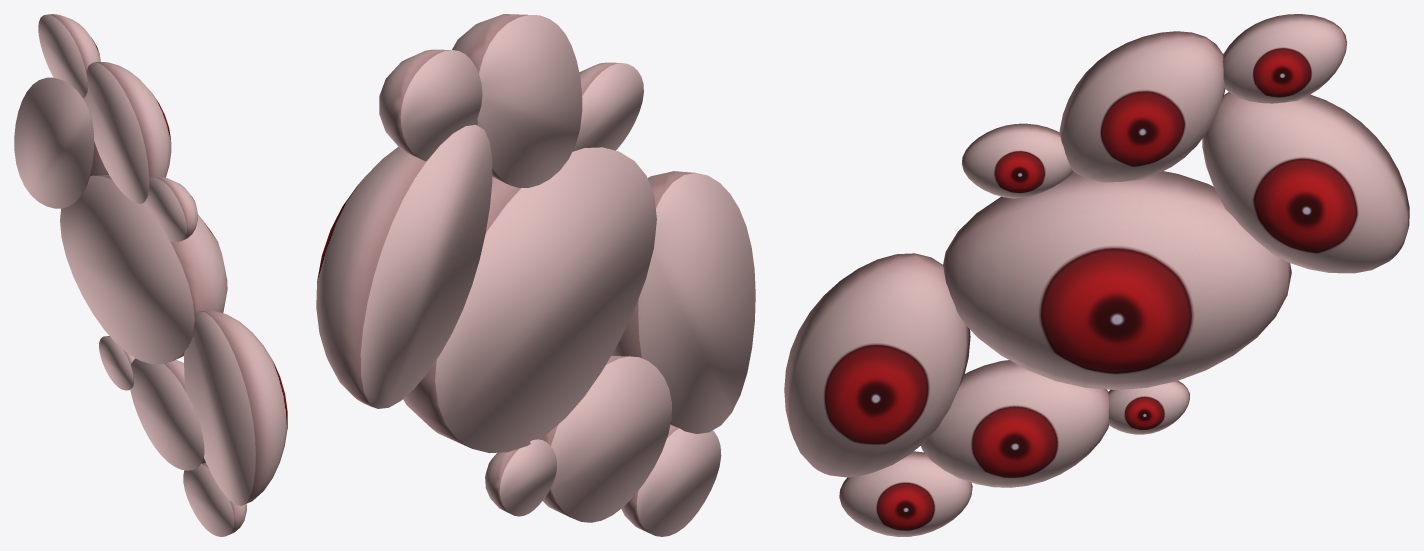
File: eye cluster 1.fbx
3 views of the same model, side by side, from view 1: azimuth 30°, elevation 25°; view 2: azimuth 150°, elevation 25°; view 3: azimuth 270°, elevation 25° (orthographic). The views are drawn at different scales.
Parts seen in each view (by area): view 1: Sphere.006; view 2: Sphere.006; view 3: Sphere.006.
Boxes of the visible parts, left/top/right/bottom form: Sphere.006: left=14, top=14, right=287, bottom=536; Sphere.006: left=316, top=14, right=755, bottom=536; Sphere.006: left=784, top=14, right=1409, bottom=536.
Bounding box in the file's own units: 100 × 487 × 531.
Materials: 1 (1 with a texture image).
